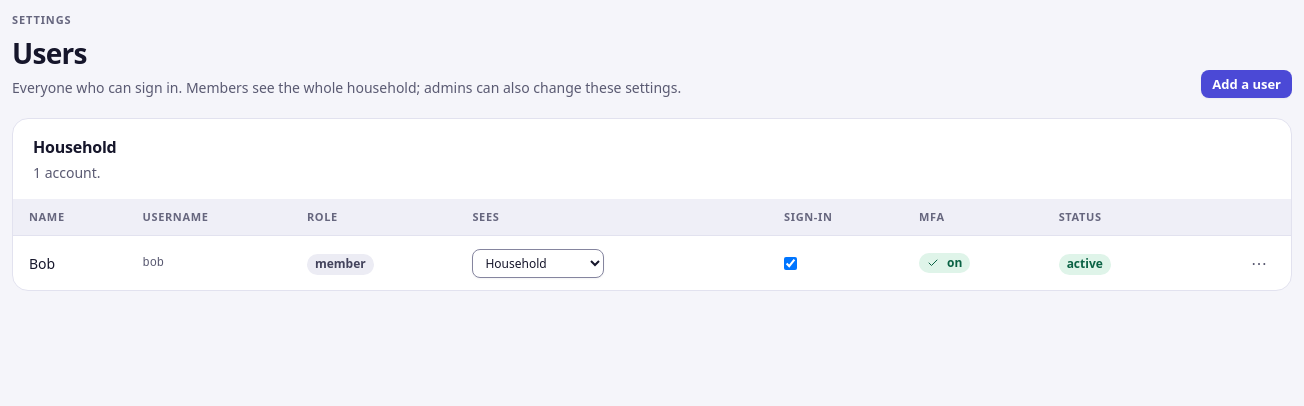
v1.12.1: Deactivate and Reset MFA ask first (item AU / UX-6, ruling R5) › Cancel closes the confirm row
Click the button "⋯": coordinates (1259, 263) [1243,247,1275,279]
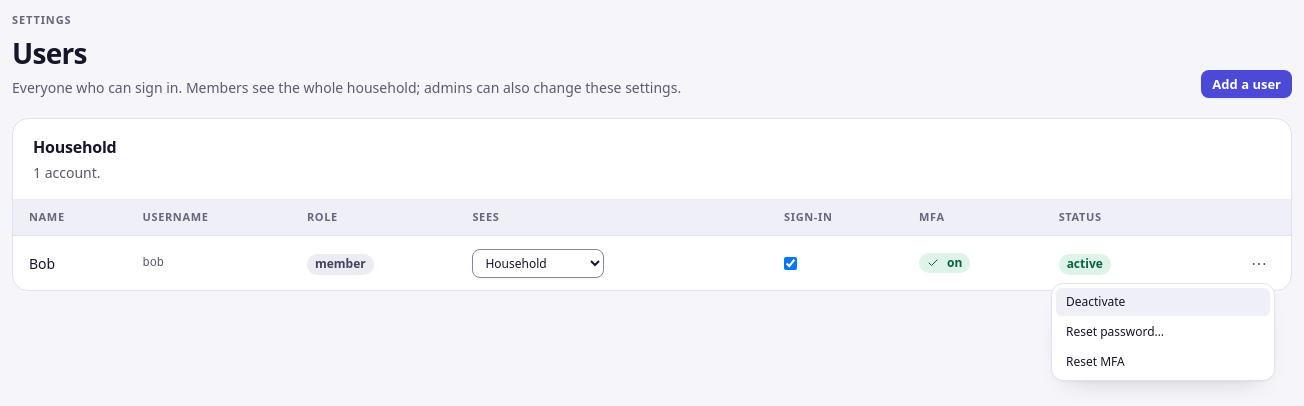
Click the menu item "Deactivate": coordinates (1163, 302) [1056,288,1270,316]
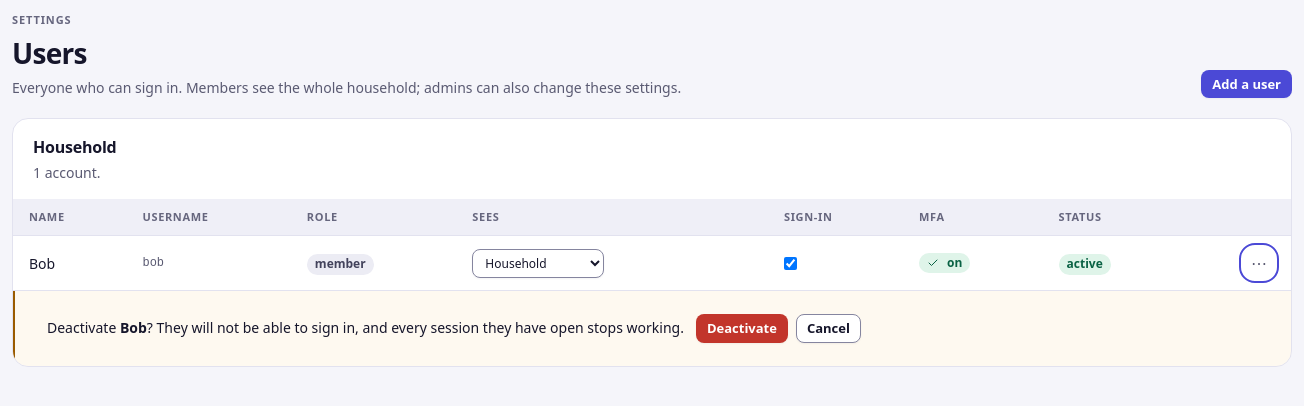
Click the button "Cancel": coordinates (828, 328) [796,314,861,343]
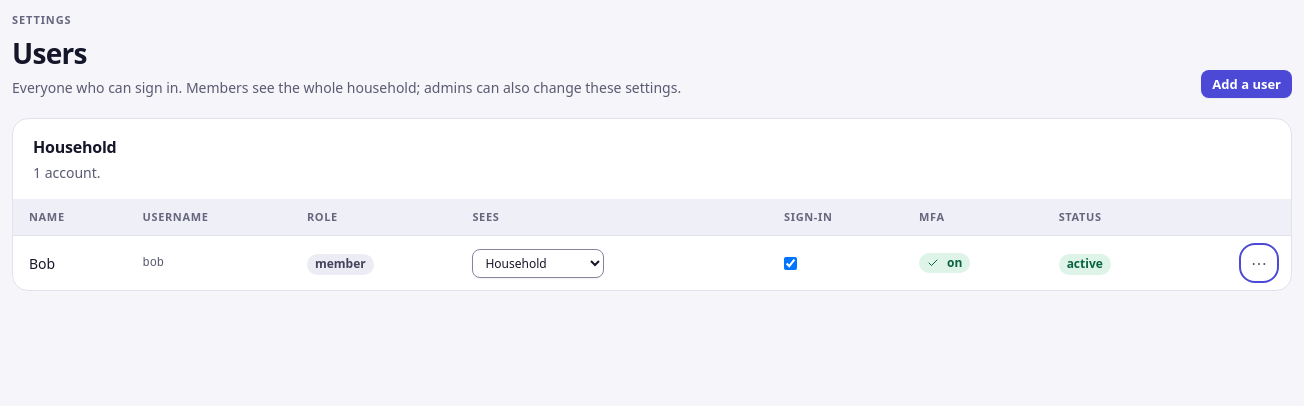
expect the text "They will not be able to sign in" is gone: met
